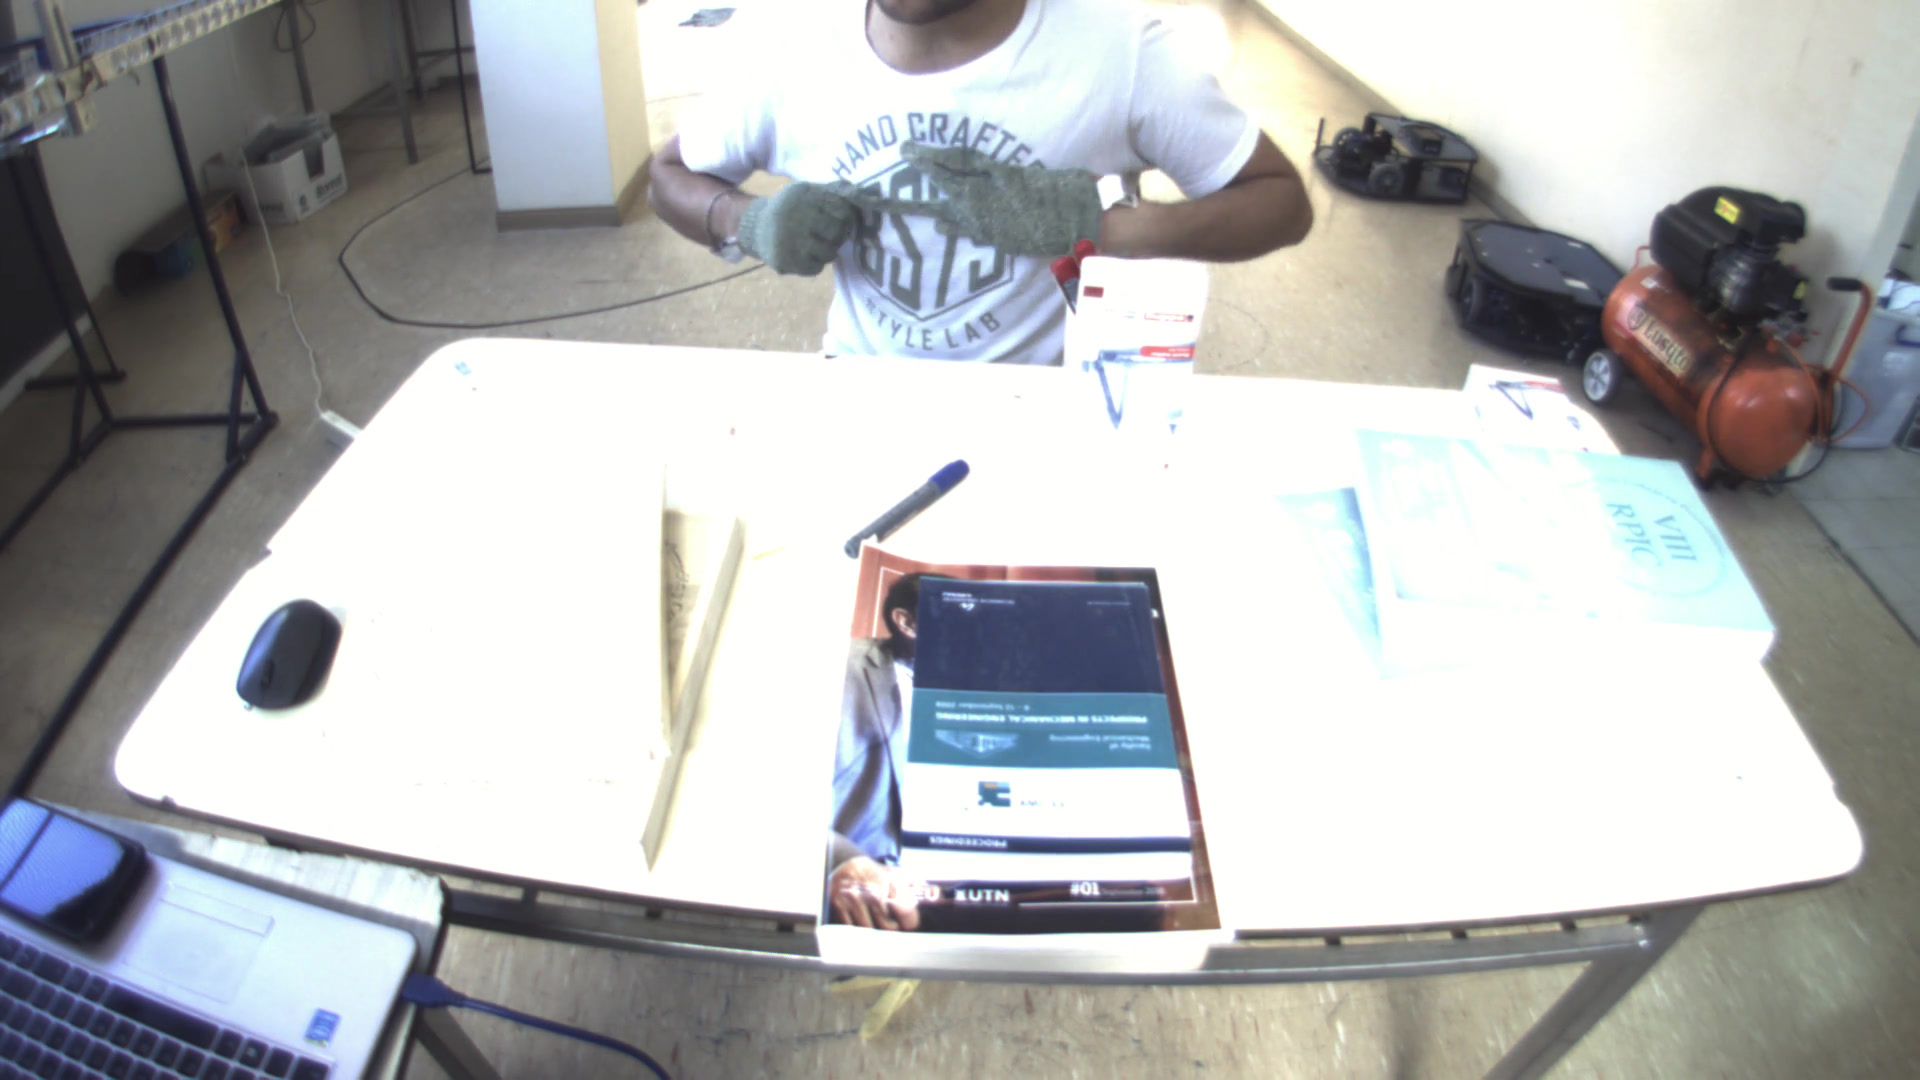hand: (914, 142, 1106, 255), (733, 170, 874, 277)
